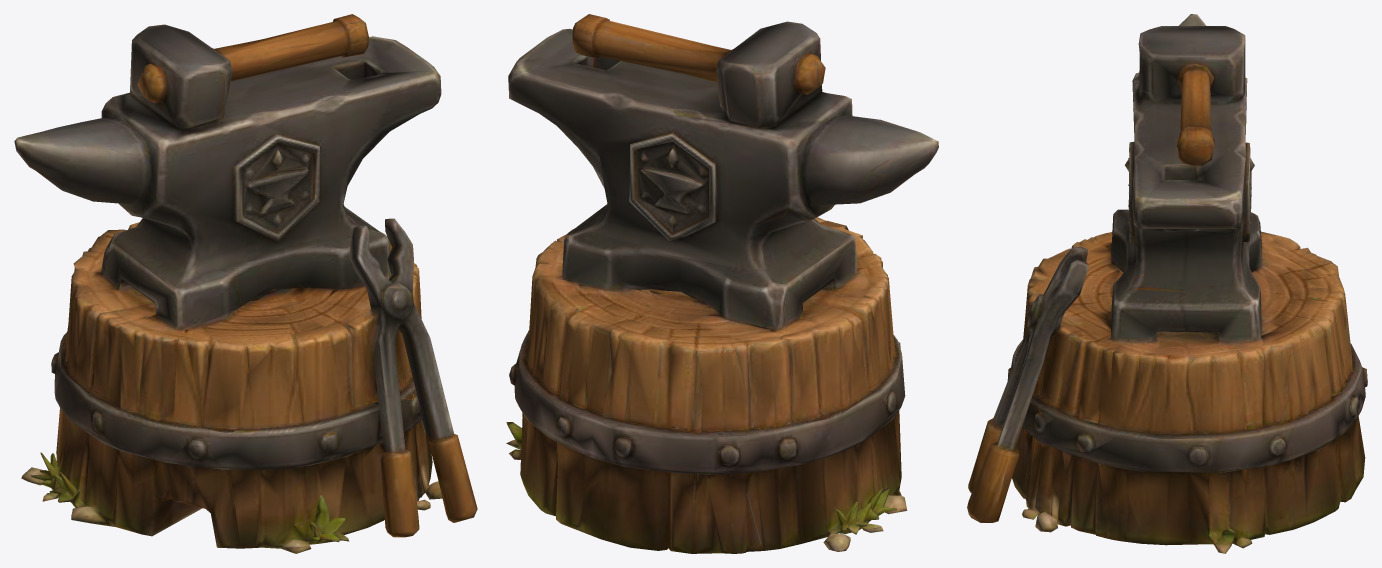
File: stump-forge.glb
3 views of the same model, side by side, from view 1: azimuth 30°, elevation 25°; view 2: azimuth 150°, elevation 25°; view 3: azimuth 270°, elevation 25° (orthographic). The views are drawn at different scales.
Parts seen in each view (by area): view 1: Mesh1.0; view 2: Mesh1.0; view 3: Mesh1.0.
Boxes of the visible parts, x1=… form: Mesh1.0: x1=14, y1=14, x2=477, y2=553; Mesh1.0: x1=506, y1=14, x2=938, y2=553; Mesh1.0: x1=967, y1=14, x2=1367, y2=553.
Bounding box in the file's own units: 1.84 × 1.9 × 1.69.
1 material, 1 textured.
